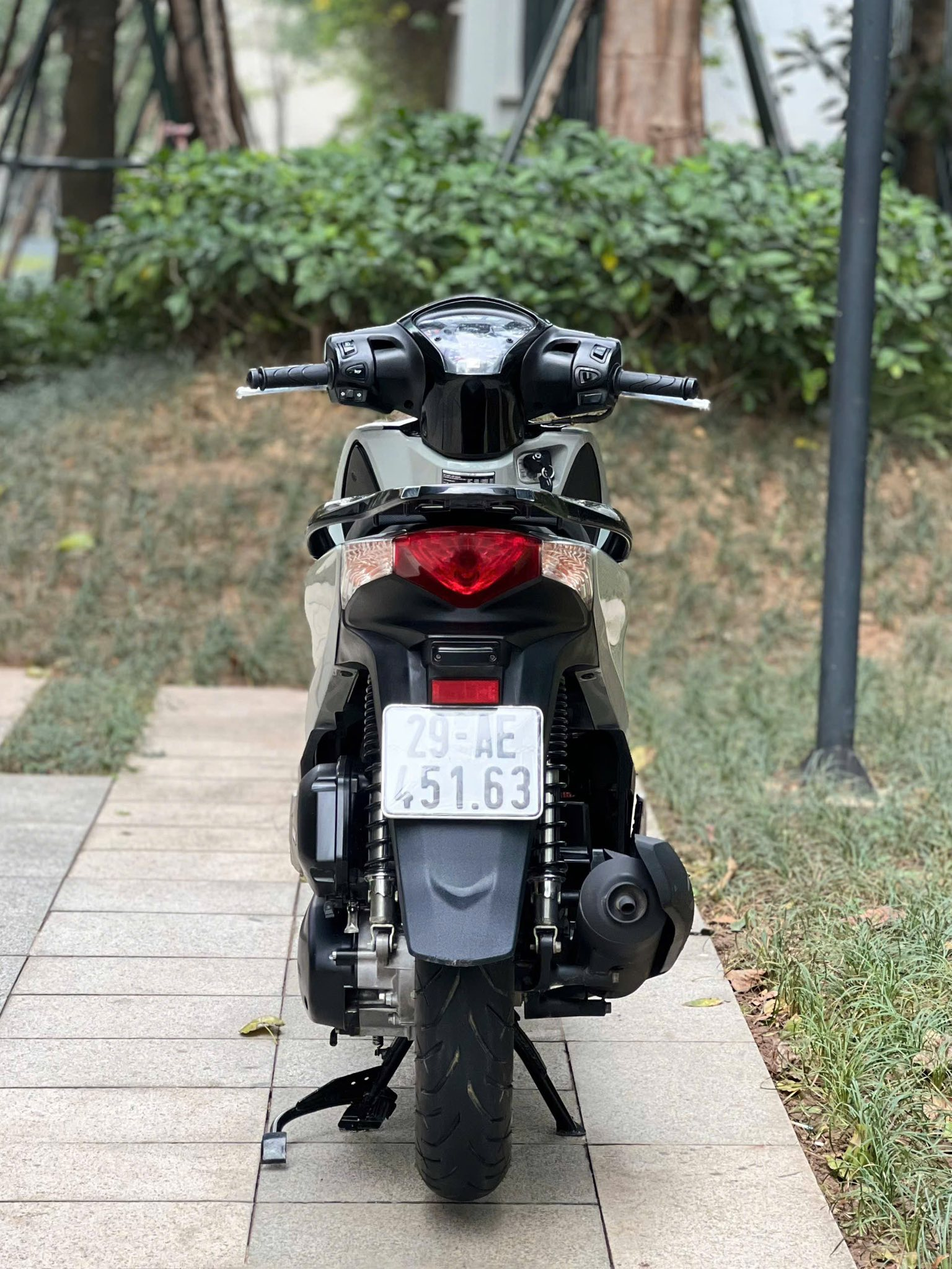bien_so: (375, 698, 559, 832)
